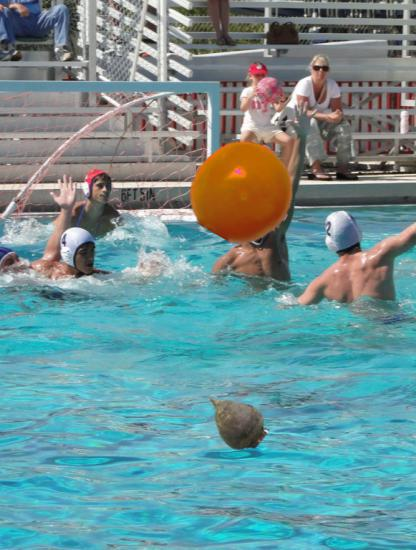Beetroot: (198, 384, 271, 457)
Physalis: (192, 140, 295, 243)
